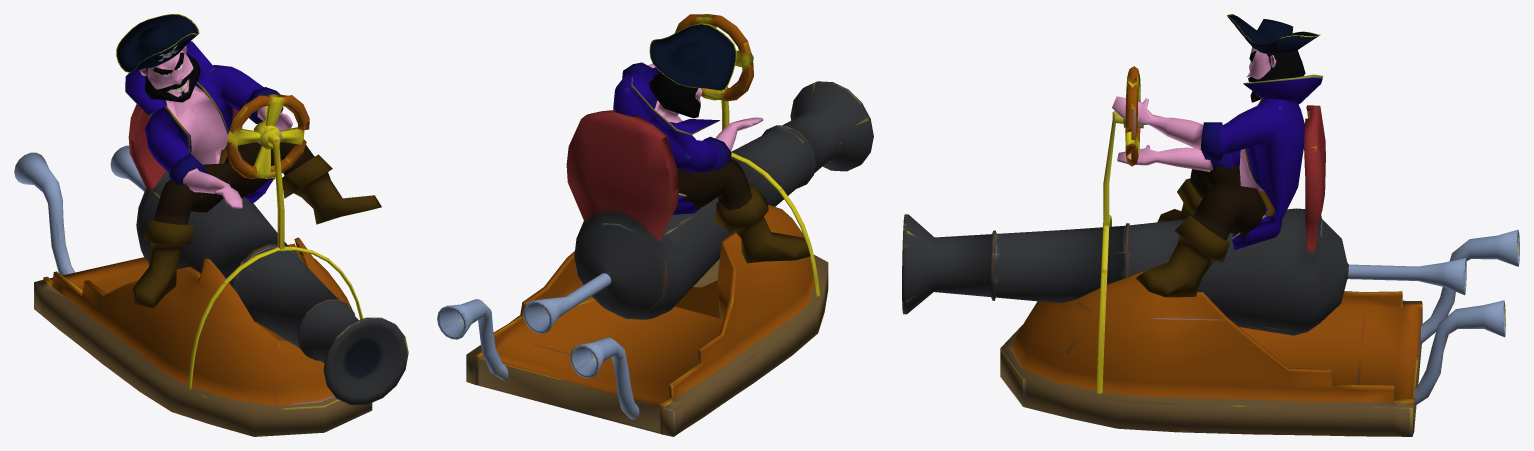
The model's file is pirataGiroDer_000174.obj.
3 views of the same model, side by side, from view 1: azimuth 30°, elevation 25°; view 2: azimuth 150°, elevation 25°; view 3: azimuth 270°, elevation 25° (orthographic). The views are drawn at different scales.
Visible parts, largest first — view 1: carro_pirata, Pirata_PirataH_Pirata_PirataH.001; view 2: carro_pirata, Pirata_PirataH_Pirata_PirataH.001; view 3: carro_pirata, Pirata_PirataH_Pirata_PirataH.001.
Part boxes in pixels (<box>): carro_pirata: <box>14,94,408,436</box>; Pirata_PirataH_Pirata_PirataH.001: <box>116,14,381,307</box>; carro_pirata: <box>437,14,873,436</box>; Pirata_PirataH_Pirata_PirataH.001: <box>613,23,810,263</box>; carro_pirata: <box>902,66,1519,436</box>; Pirata_PirataH_Pirata_PirataH.001: <box>1112,14,1322,297</box>.
Size of the model in its own units: 5.65 by 7.42 by 12.1.
Materials: 2 (2 with a texture image).
